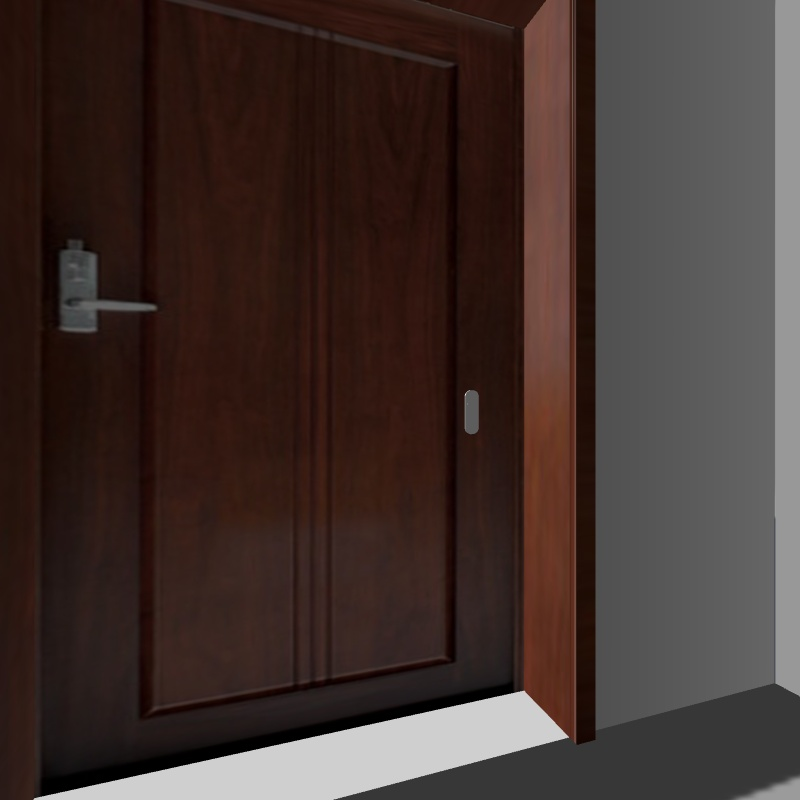handle: (39, 225, 168, 347)
